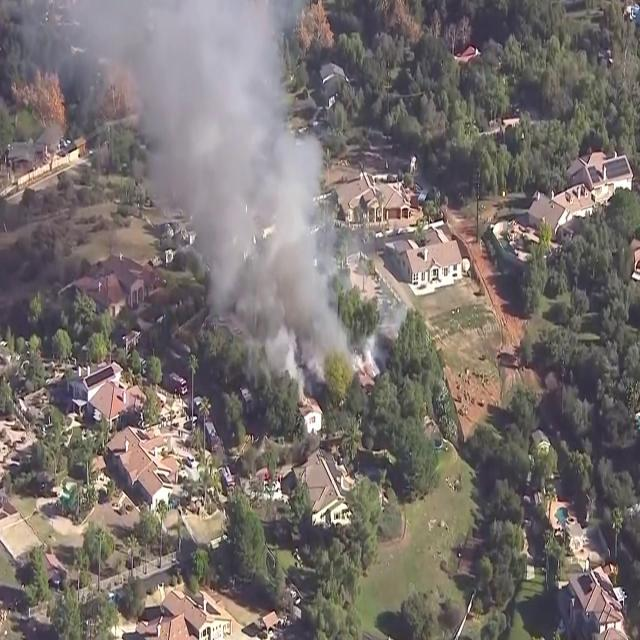Smoke: (88, 1, 360, 410)
